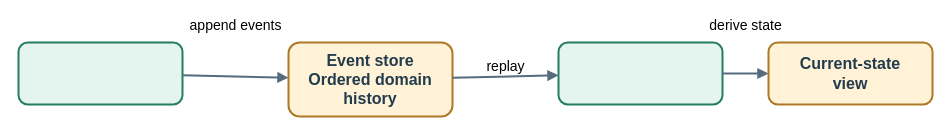
Some shapes in this 950 by 135 pixel diagram are drawn without their labels. Here are the shapes that lost their labels. From the top down, the centre of each, then its label:
point 100,73: Command handler
point 640,73: Replay / projector
